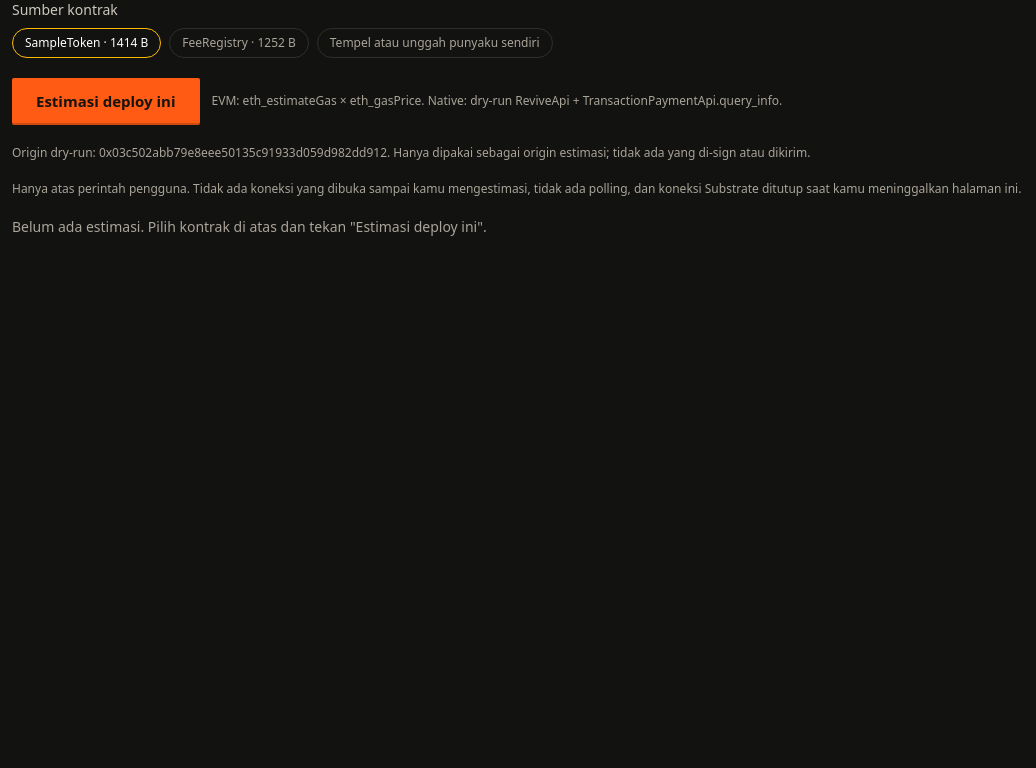
Scenario: DeployCostCalculator › renders the calculator and deposit explainer in Indonesian
Check: the text "Sumber kontrak" is shown, box left=12, top=0, right=118, bottom=19
What coordinates should you click on to do the following:
click the button "Estimasi deploy ini"
I would click on:
 (106, 101)
Its box is left=12, top=78, right=200, bottom=124.
(page scrolled)
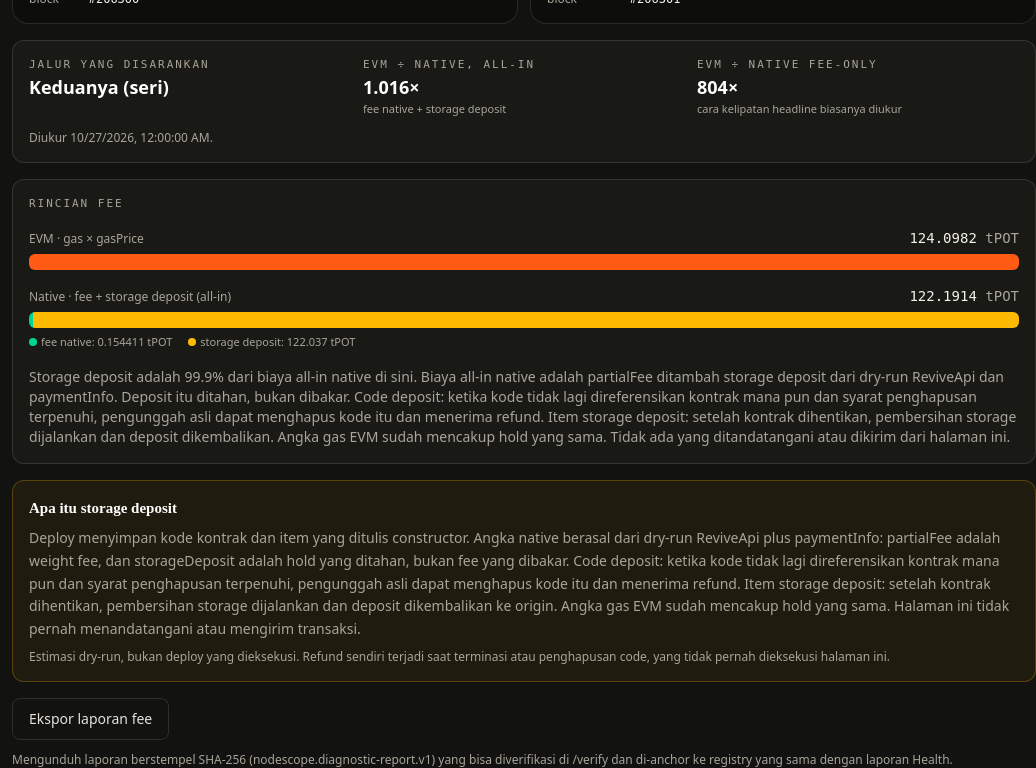
Check: the heading "Apa itu storage deposit" is shown, box left=29, top=500, right=177, bottom=516
Check: the text "dikembalikan ke origin" is shown, box left=29, top=528, right=1009, bottom=638
